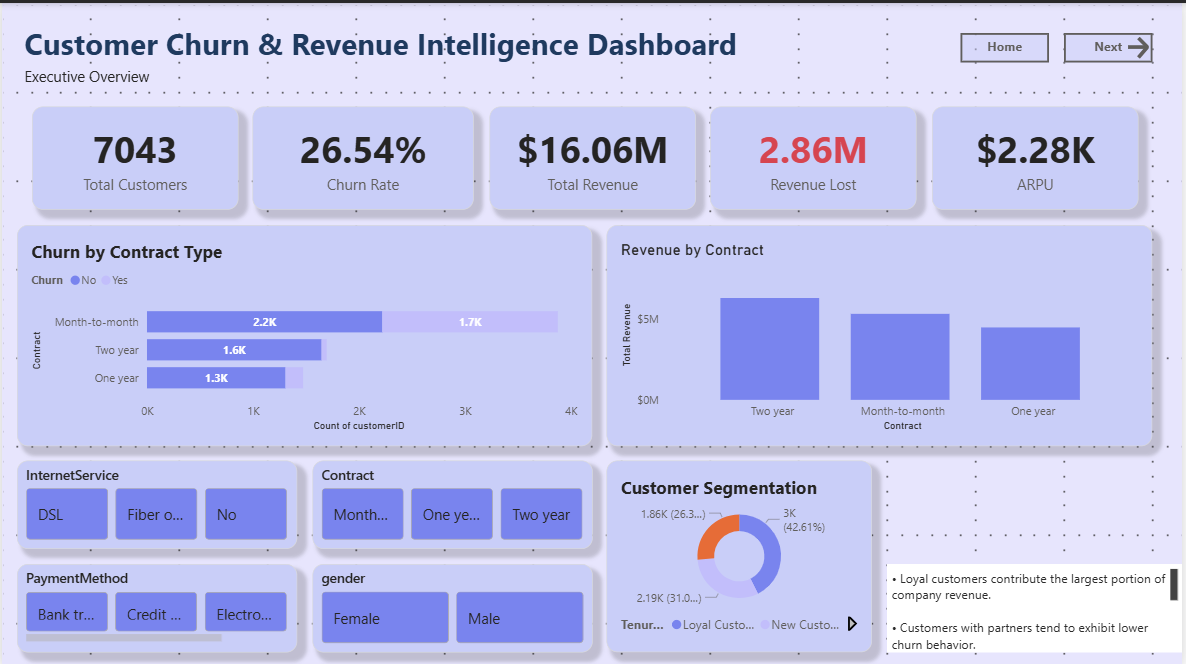

The dashboard page shown, as its layout file describes it:
{"tool":"powerbi","page":{"name":"Executive Overview","canvas":[1280,720],"ordinal":0},"visuals":[{"type":"card","fields":{"Values":["fact_churn.Total Customers"]},"box":[32,112,224,112],"z":0},{"type":"card","fields":{"Values":["fact_churn.Churn Rate"]},"box":[272,112,240,112],"z":1000},{"type":"card","fields":{"Values":["fact_churn.Total Revenue"]},"box":[528,112,224,112],"z":2000},{"type":"card","fields":{"Values":["fact_churn.Revenue Lost"]},"box":[768,112,224,112],"z":3000},{"type":"card","fields":{"Values":["fact_churn.ARPU"]},"box":[1008,112,224,112],"z":4000},{"type":"barChart","title":"Churn by Contract Type","fields":{"Y":["CountNonNull(fact_churn.customerID)"],"Category":["dim_contract.Contract"],"Series":["fact_churn.Churn"]},"box":[16,240,624,240],"z":5000},{"type":"clusteredColumnChart","title":"Revenue by Contract","fields":{"Category":["dim_contract.Contract"],"Y":["fact_churn.Total Revenue"]},"box":[656,240,592,240],"z":6000},{"type":"donutChart","title":"Customer Segmentation","fields":{"Category":["fact_churn.Tenure_Group"],"Y":["CountNonNull(fact_churn.customerID)"]},"box":[656,496,288,208],"z":7000},{"type":"textbox","box":[20,16,784,64],"z":8000},{"type":"textbox","box":[20,64,256,32],"z":9000},{"type":"textbox","box":[960,608,320,96],"z":10000},{"type":"advancedSlicerVisual","fields":{"Values":["dim_contract.Contract"]},"box":[336,496,304,96],"z":11000},{"type":"advancedSlicerVisual","fields":{"Values":["dim_internet_service.InternetService"]},"box":[16,496,304,96],"z":12000},{"type":"advancedSlicerVisual","fields":{"Values":["dim_payment.PaymentMethod"]},"box":[16,608,304,96],"z":13000},{"type":"advancedSlicerVisual","fields":{"Values":["dim_customer.gender"]},"box":[336,608,304,96],"z":14000},{"type":"actionButton","box":[1152,32,96,32],"z":15000},{"type":"actionButton","box":[1040,32,96,32],"z":16000}]}

Visuals, with their boxes in screenshot pixels (x1, y1, x2, y2), scaled from the page's 1280x720 canvas onto the 1186x664 screenshot:
card - fact_churn.Total Customers: x1=30, y1=103, x2=237, y2=207
card - fact_churn.Churn Rate: x1=252, y1=103, x2=474, y2=207
card - fact_churn.Total Revenue: x1=489, y1=103, x2=697, y2=207
card - fact_churn.Revenue Lost: x1=712, y1=103, x2=919, y2=207
card - fact_churn.ARPU: x1=934, y1=103, x2=1142, y2=207
"Churn by Contract Type" barChart: x1=15, y1=221, x2=593, y2=443
"Revenue by Contract" clusteredColumnChart: x1=608, y1=221, x2=1156, y2=443
"Customer Segmentation" donutChart: x1=608, y1=457, x2=875, y2=649
textbox: x1=19, y1=15, x2=745, y2=74
textbox: x1=19, y1=59, x2=256, y2=89
textbox: x1=890, y1=561, x2=1185, y2=649
advancedSlicerVisual - dim_contract.Contract: x1=311, y1=457, x2=593, y2=546
advancedSlicerVisual - dim_internet_service.InternetService: x1=15, y1=457, x2=296, y2=546
advancedSlicerVisual - dim_payment.PaymentMethod: x1=15, y1=561, x2=296, y2=649
advancedSlicerVisual - dim_customer.gender: x1=311, y1=561, x2=593, y2=649
actionButton: x1=1067, y1=30, x2=1156, y2=59
actionButton: x1=964, y1=30, x2=1053, y2=59
